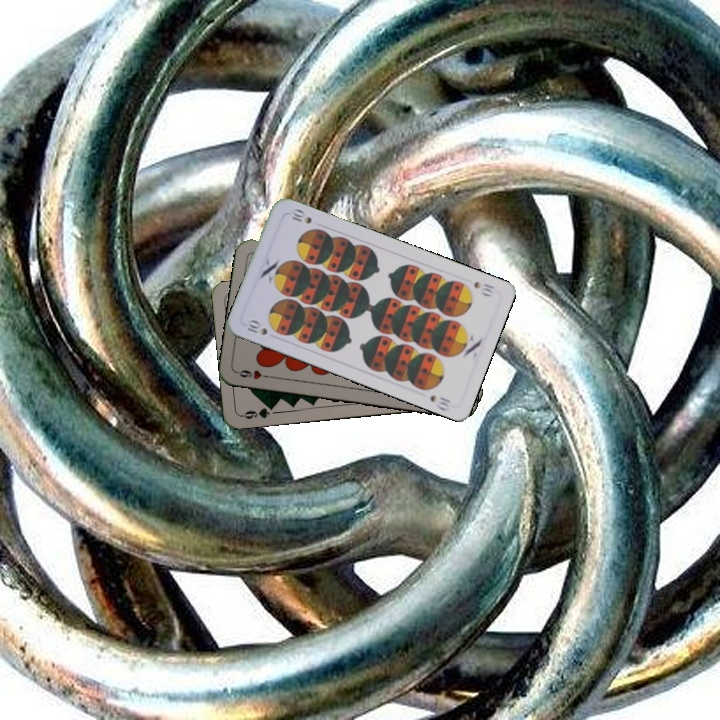G9: (238, 401, 278, 421)
H9: (233, 366, 274, 382)
S10: (243, 316, 270, 338), (470, 277, 497, 299)
